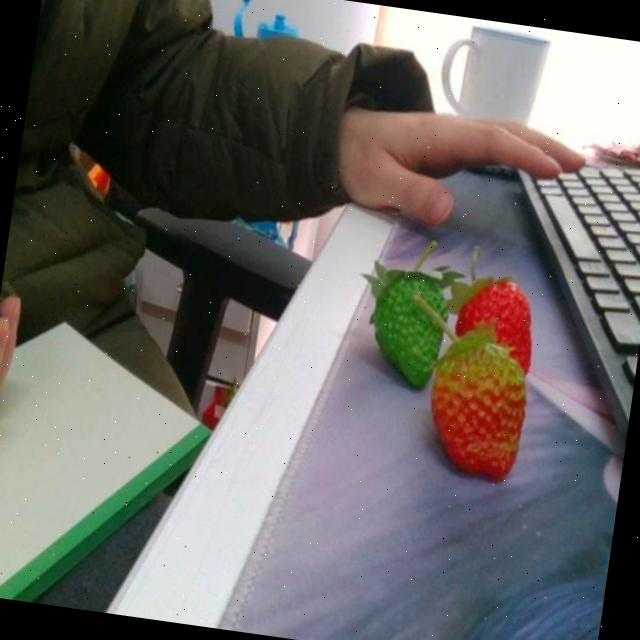strawberry: (422, 335, 532, 479), (366, 266, 453, 392), (451, 273, 541, 378)
